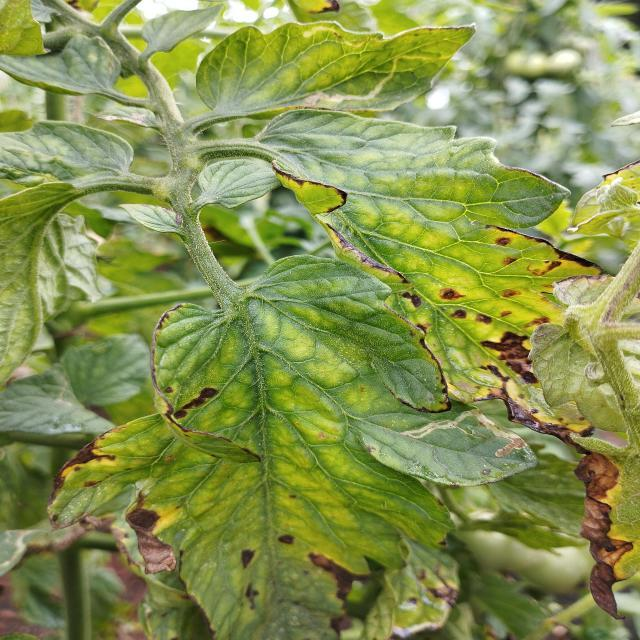Tomato mosaic virus leaf: (43, 302, 392, 640), (376, 226, 615, 415), (526, 393, 640, 625)
